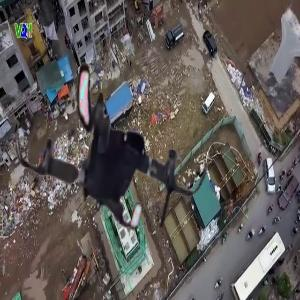drone: (11, 37, 221, 247)
